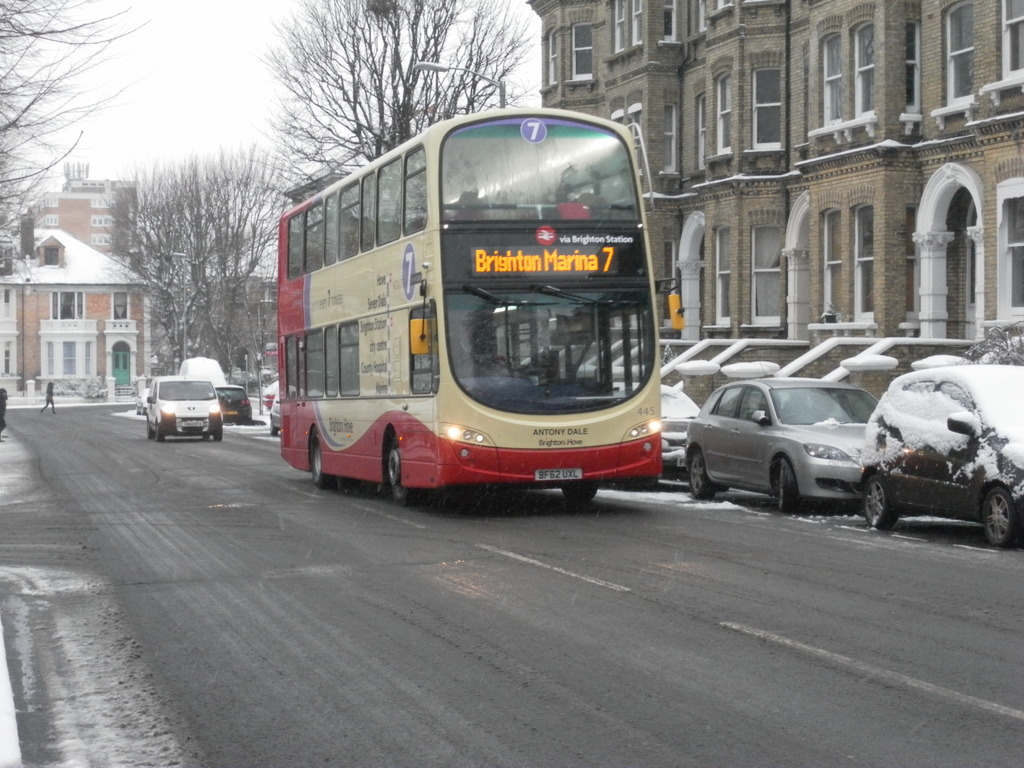Car: (670, 359, 897, 522), (860, 362, 1023, 547), (136, 375, 224, 443), (655, 378, 700, 476), (216, 382, 256, 430)
